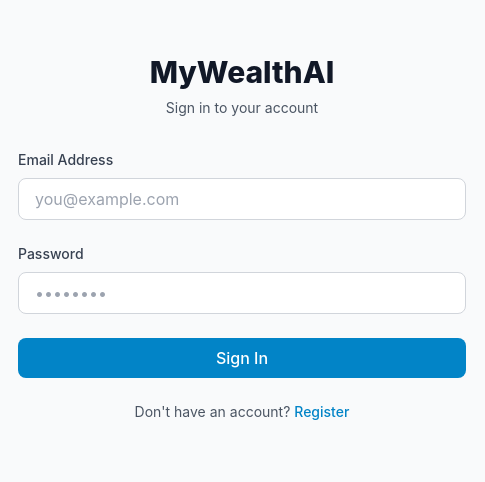
Test: Login — Failed Login (Integration) › shows fallback error on network failure
Type "test@example.com" into the field with placeholder "you@example.com" at [242, 199], box 18,178 -> 466,220
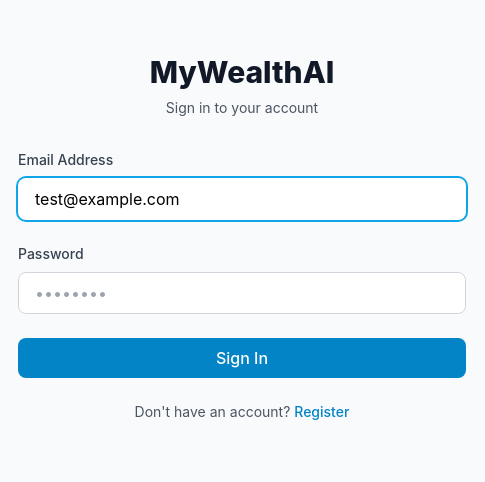
Type "Secret@123" into the password field with placeholder "••••••••" at [242, 293], box 18,272 -> 466,314
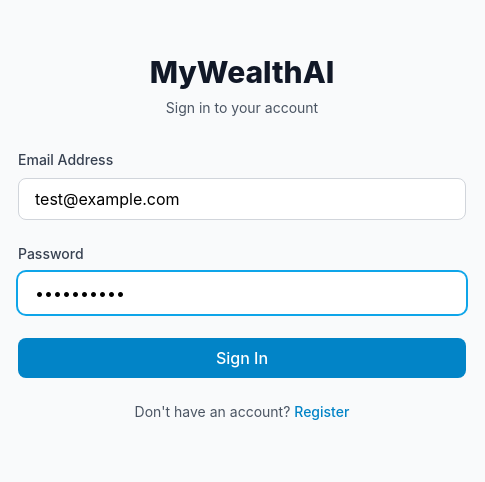
Click the button "Sign In" at [242, 358], box 18,338 -> 466,378
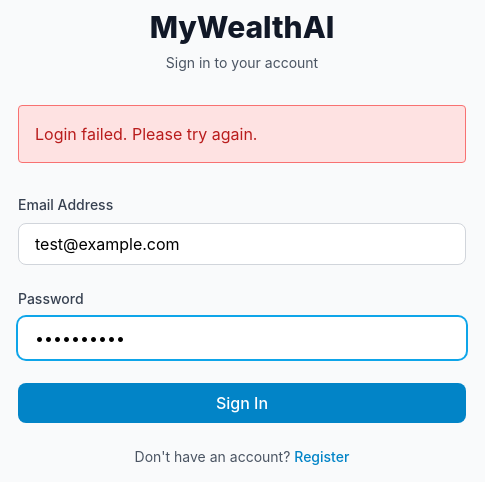
Expected: the text "Login failed. Please try again." is shown, 18,105 -> 466,163
